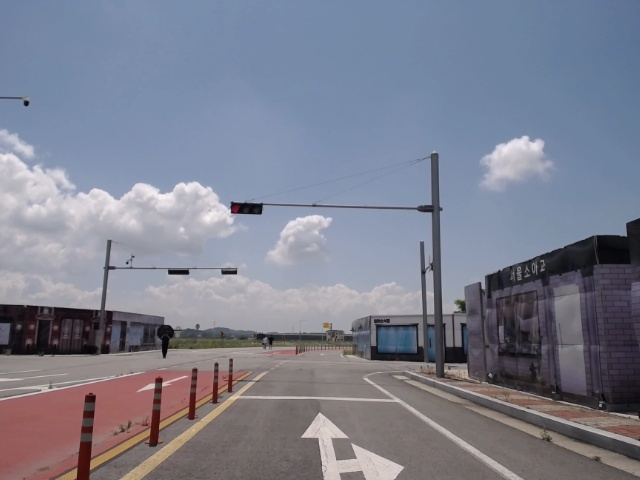red_3: (229, 199, 267, 216)
